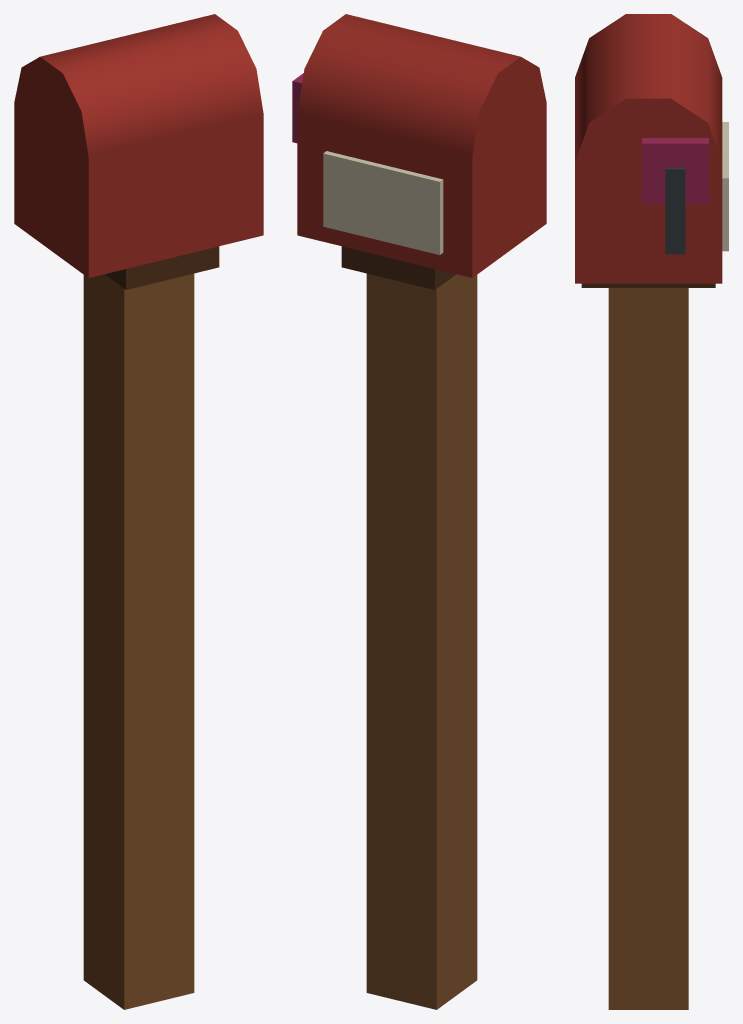
Rendered from kit-roadside-mailbox.glb.
The picture shows the model from 3 angles, left to right: view 1: azimuth 30°, elevation 25°; view 2: azimuth 150°, elevation 25°; view 3: azimuth 270°, elevation 25°; orthographic projection.
Visible parts, largest first — view 1: roadside_mailbox; view 2: roadside_mailbox; view 3: roadside_mailbox.
Part boxes in pixels (left/top/right/bottom): roadside_mailbox: left=14, top=14, right=263, bottom=1009; roadside_mailbox: left=292, top=14, right=546, bottom=1009; roadside_mailbox: left=575, top=14, right=728, bottom=1009.
Bounding box in the file's own units: 0.325 × 1.54 × 0.23.
